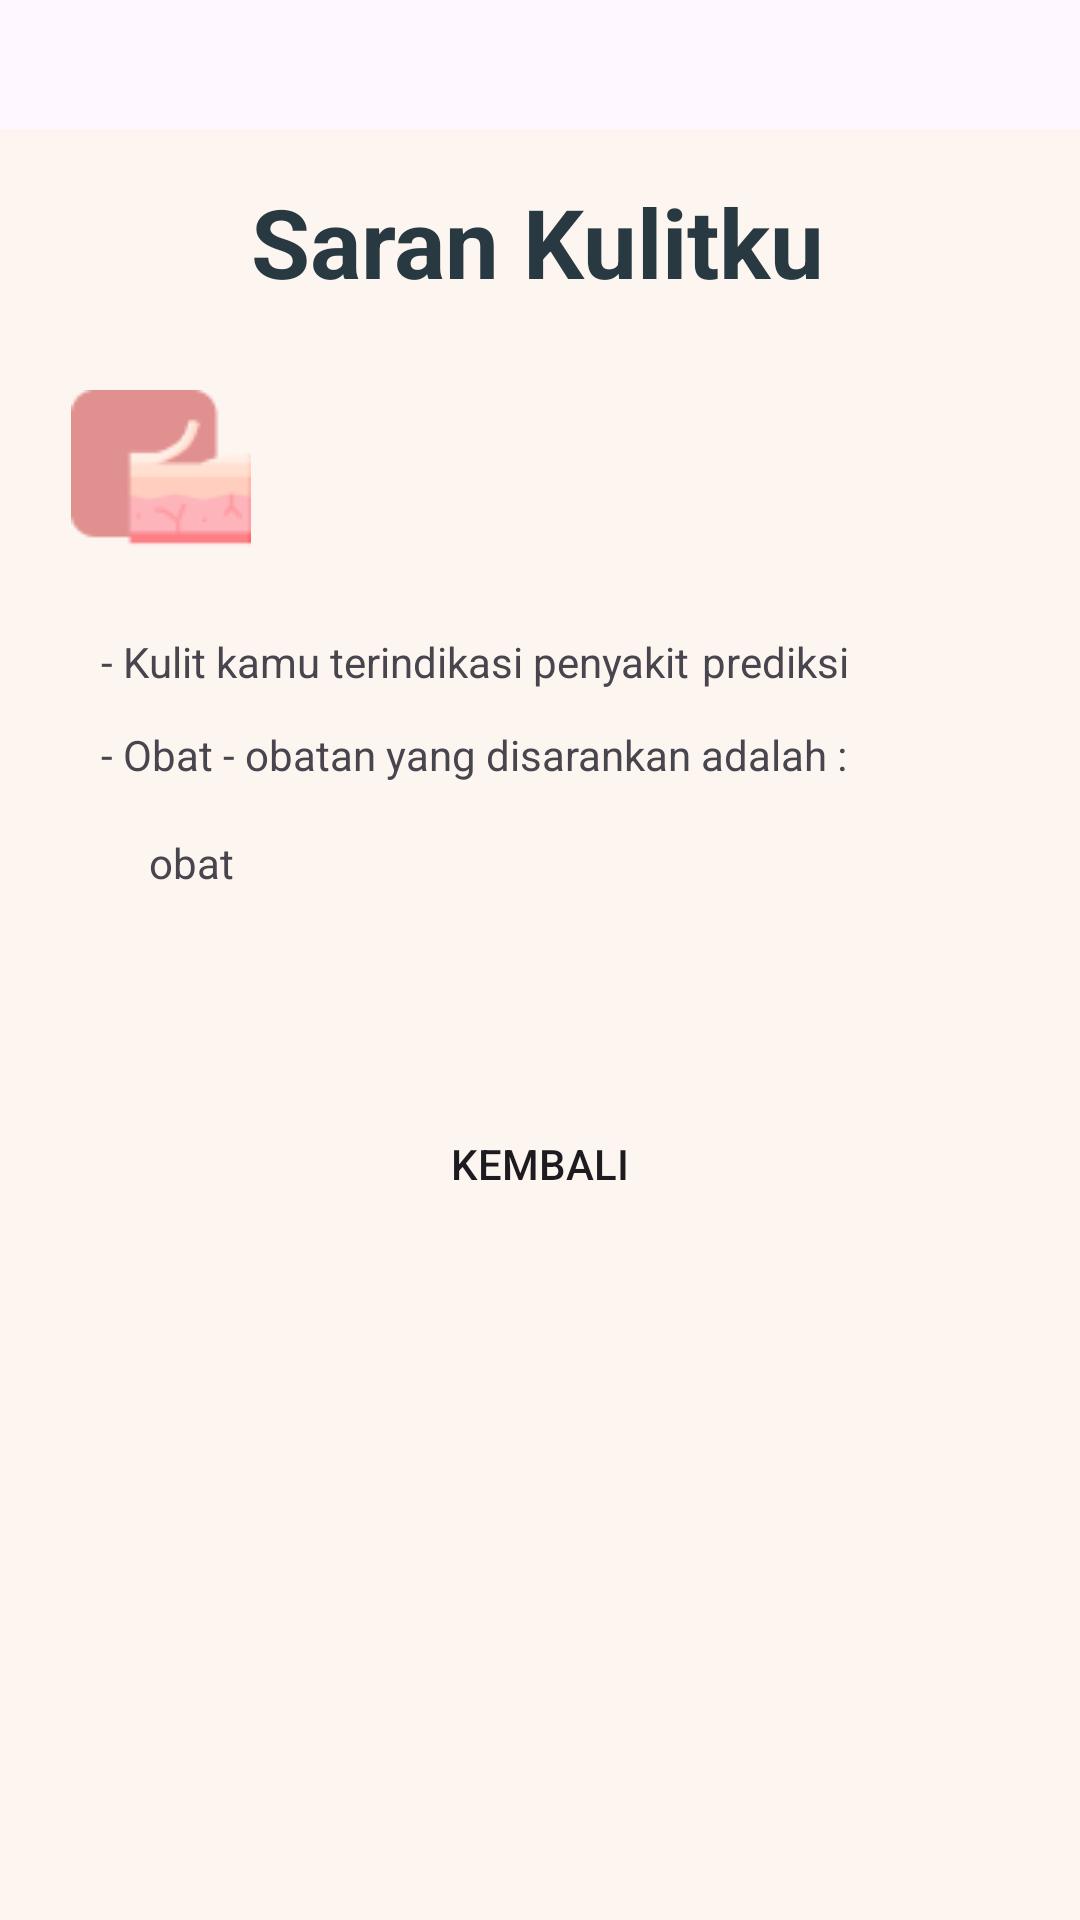

Icons on this 1080x1920 Android screen, each with its box as (x1, y1, x2, y2):
care: (71, 390, 251, 544)
